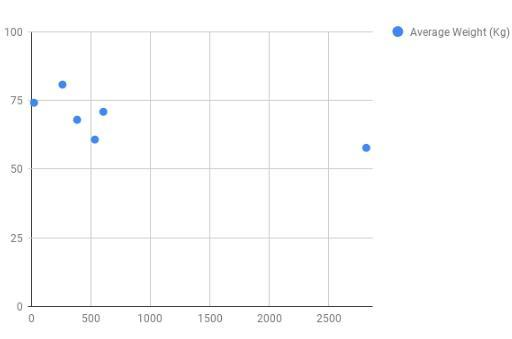axis: (25, 301, 375, 310), (27, 28, 35, 310)
point: (28, 97, 39, 109)
